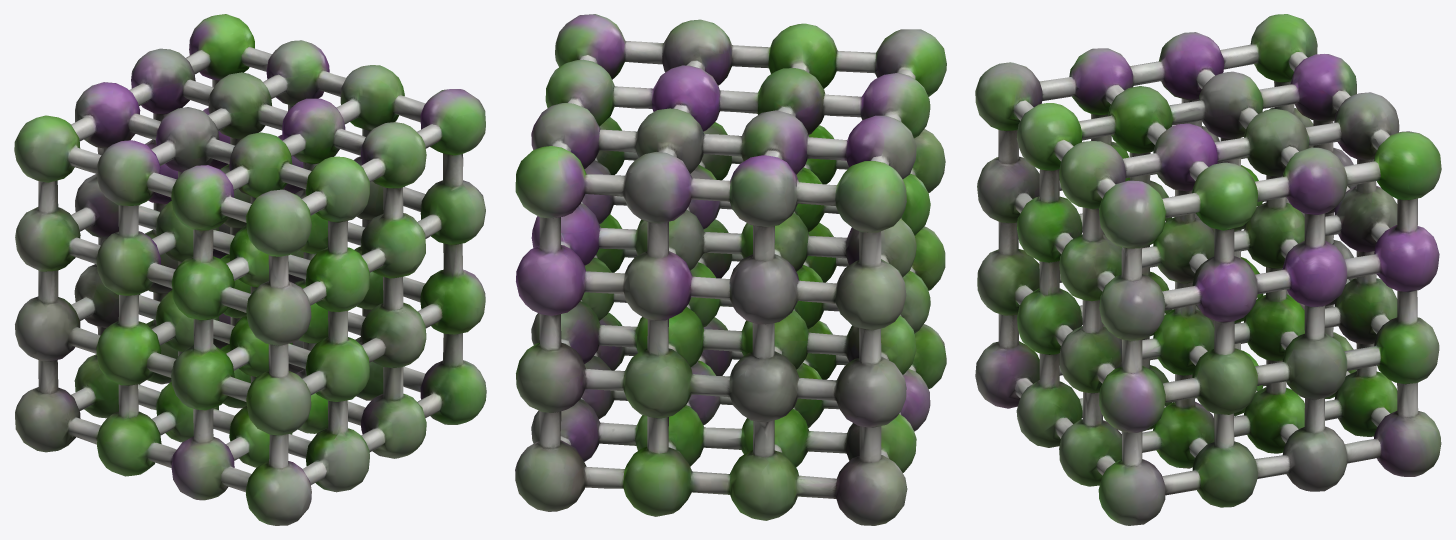
File: nacl-lattice.glb
3 views of the same model, side by side, from view 1: azimuth 30°, elevation 25°; view 2: azimuth 150°, elevation 25°; view 3: azimuth 270°, elevation 25° (orthographic). The views are drawn at different scales.
Visible parts, largest first — view 1: nacl-lattice; view 2: nacl-lattice; view 3: nacl-lattice.
Boxes of the visible parts, x1,y1,x2,y2 form: nacl-lattice: (14, 14, 486, 525); nacl-lattice: (515, 14, 946, 525); nacl-lattice: (975, 14, 1441, 525).
Bounding box in the file's own units: 0.1981 × 0.1607 × 0.2.
Materials: 1 (1 with a texture image).
